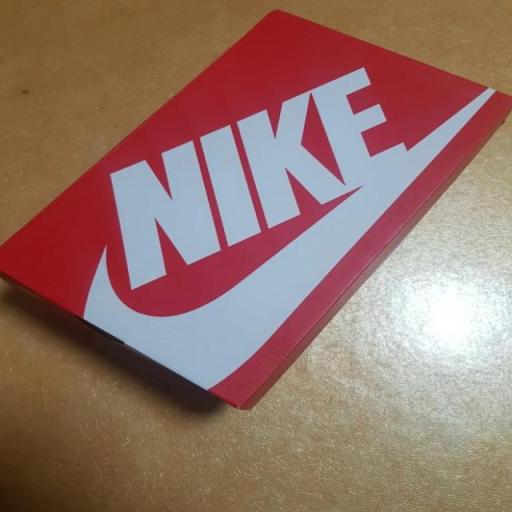Nike: (112, 68, 392, 291)
